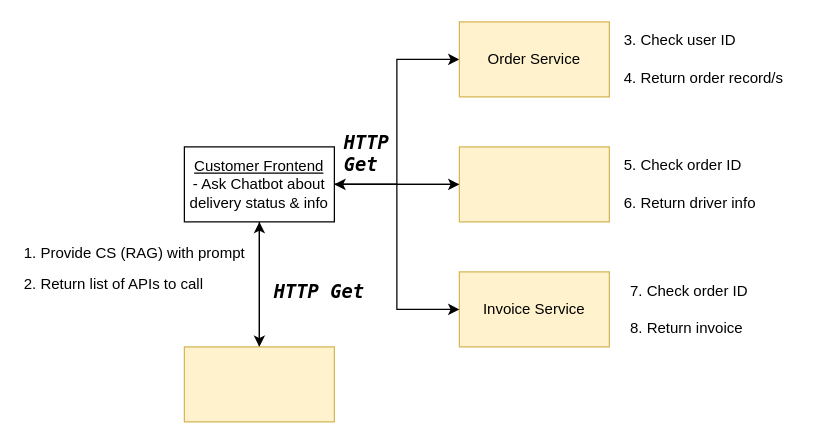
Image size: 830x444. Some labels were removed from this diagram. Here are the shapes that lost their labels. From the top down, the centre of each, then its label:
the point at 533,184: Driver Service
the point at 258,384: Customer Support (RAG)
